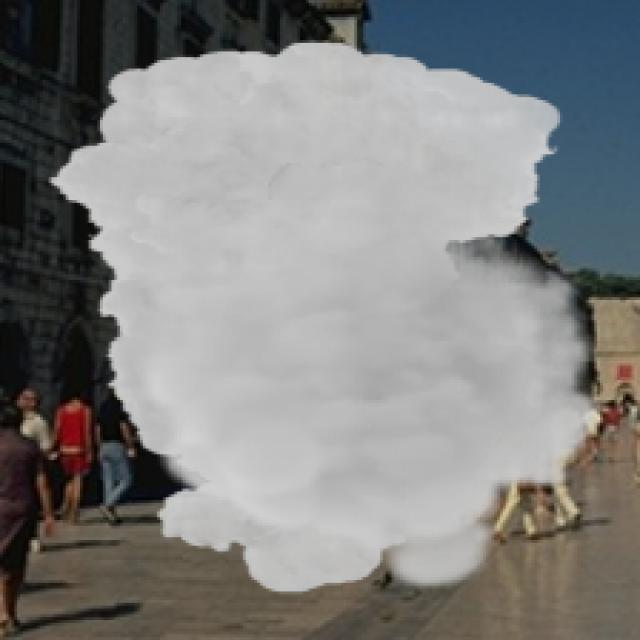Smoke: (45, 39, 606, 594)
